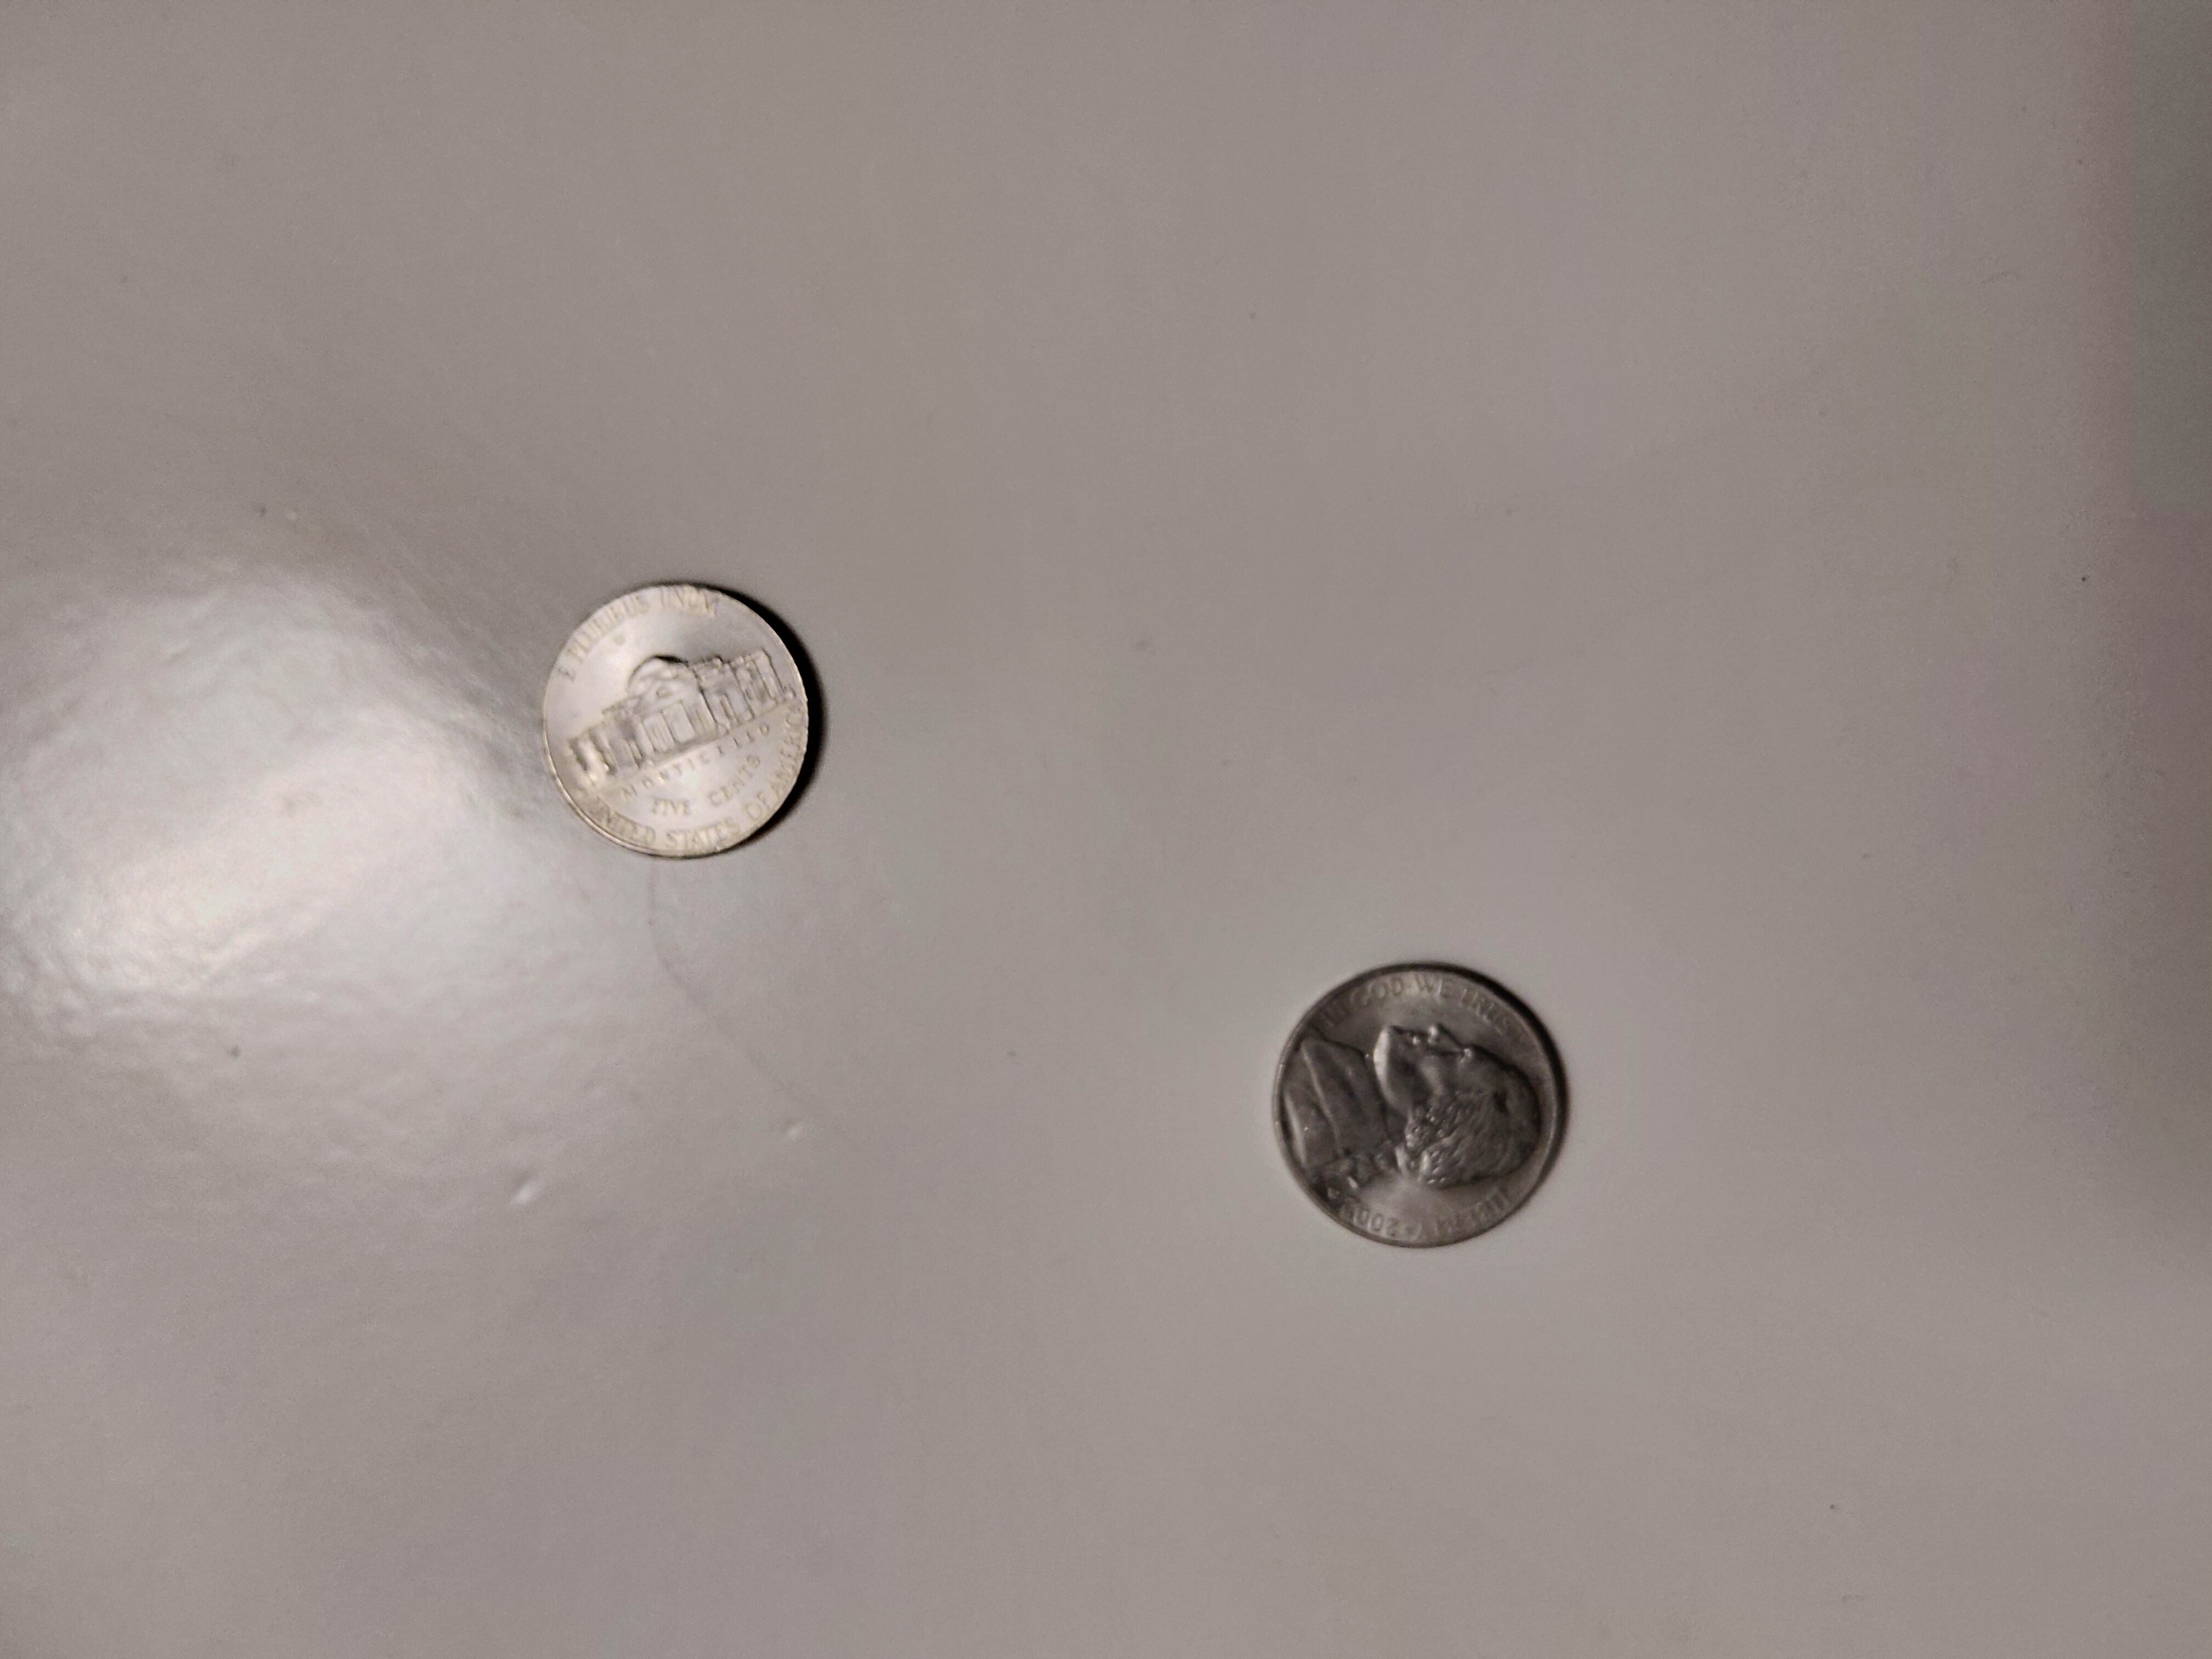Nickel: (1263, 957, 1571, 1249), (540, 579, 820, 861)
